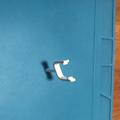u-shape: (42, 58, 77, 84)
